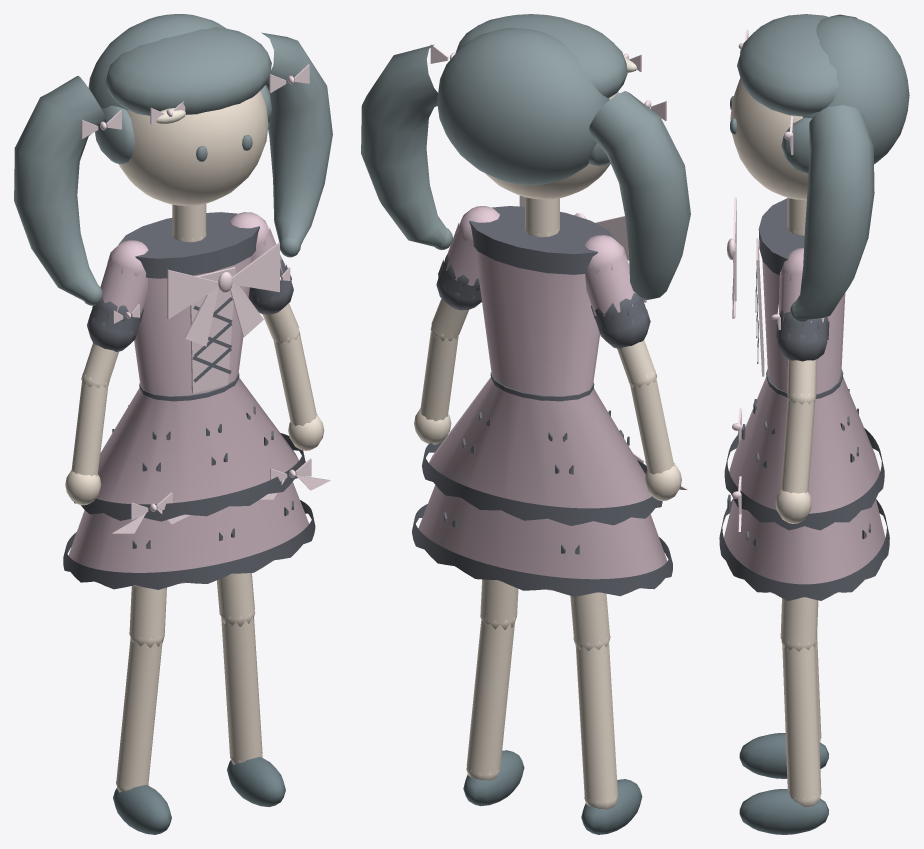
File: avatar-concept.glb
The picture shows the model from 3 angles, left to right: view 1: azimuth 30°, elevation 25°; view 2: azimuth 150°, elevation 25°; view 3: azimuth 270°, elevation 25°; orthographic projection. The views are drawn at different scales.
Parts seen in each view (by area): view 1: Concept cafe character; view 2: Concept cafe character; view 3: Concept cafe character.
Boxes of the visible parts, box(x1,y1,x2,y2) form: Concept cafe character: box(14, 14, 332, 834); Concept cafe character: box(361, 14, 690, 834); Concept cafe character: box(719, 14, 909, 834).
Size of the model in its own units: 0.496 by 1.18 by 0.261.
